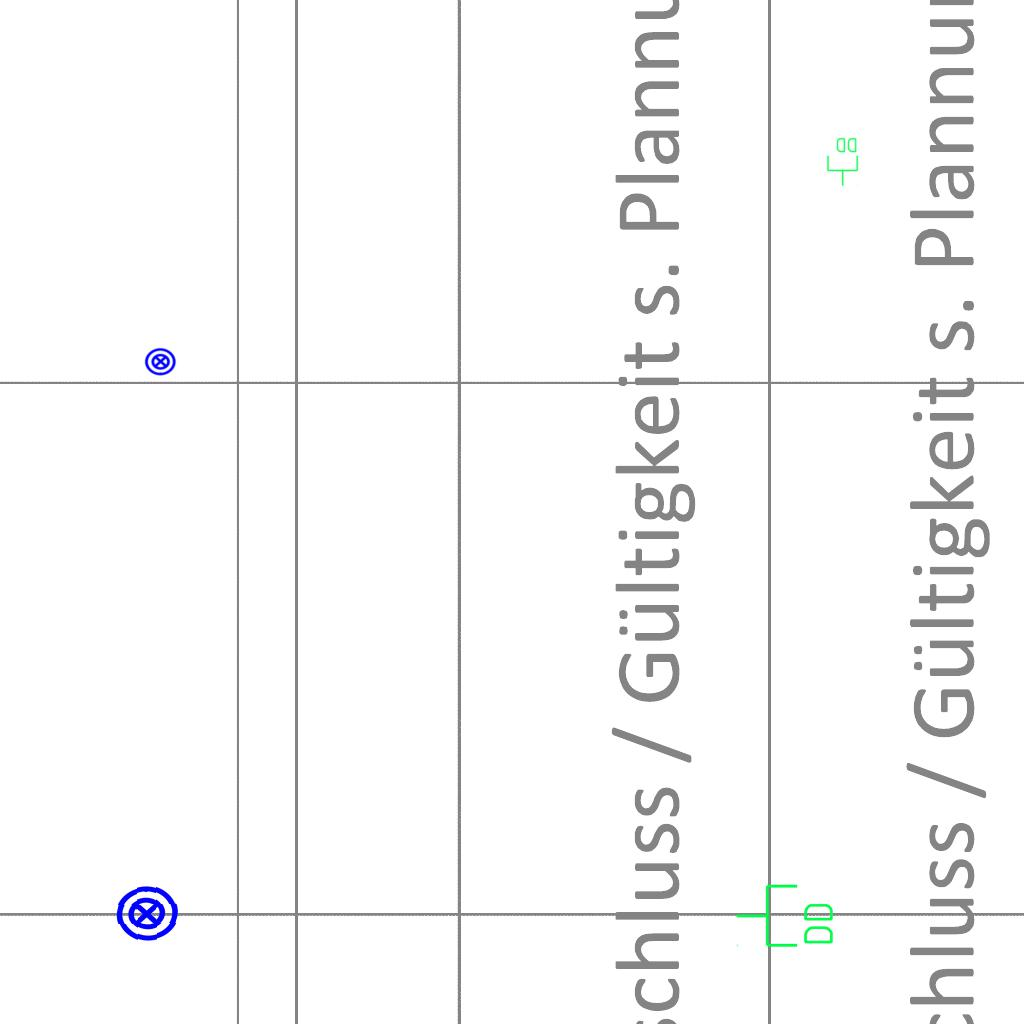Datenanschluss_zweifach: (734, 882, 837, 951), (826, 136, 860, 187)
Taster_beleuchtet: (112, 879, 182, 949), (144, 345, 177, 378)
